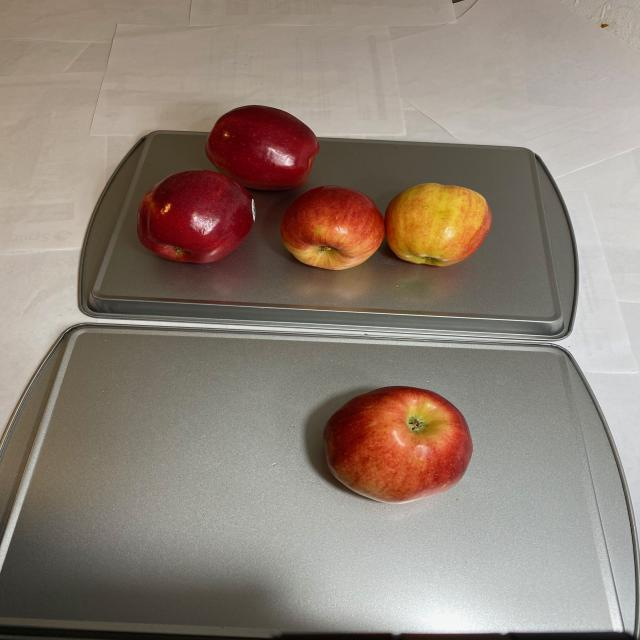apple: (131, 104, 493, 270), (316, 383, 472, 505)
